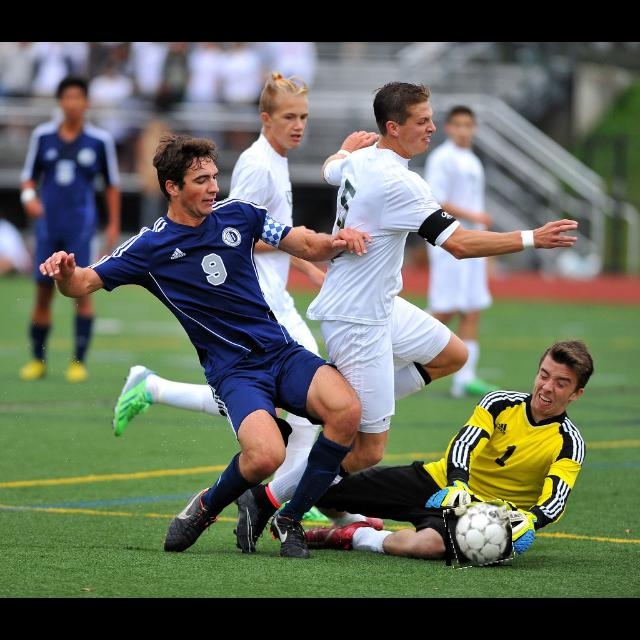Football: (446, 502, 512, 566)
